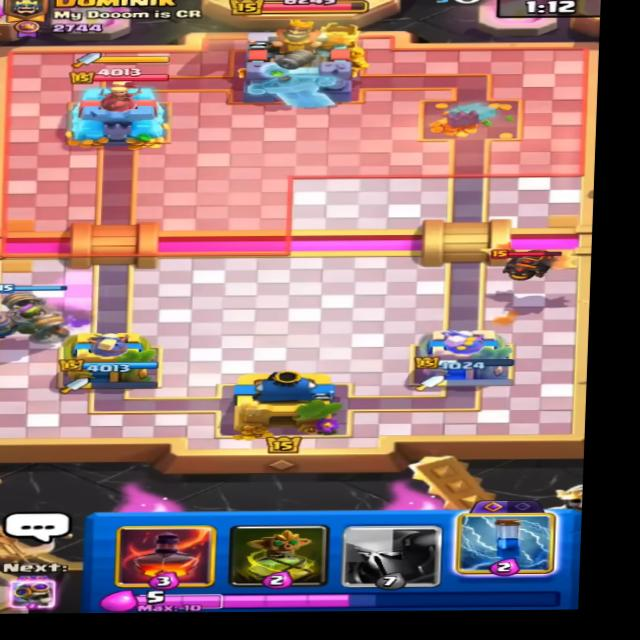lava-hound: (472, 239, 577, 283)
